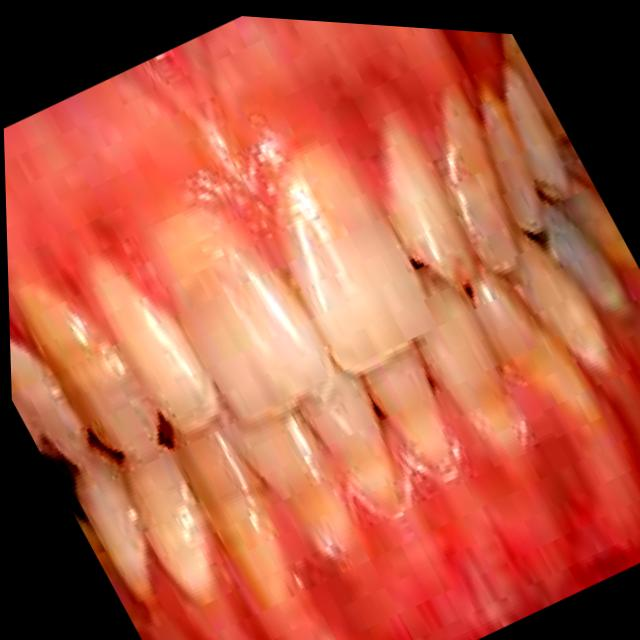tooth-discoloration: (164, 208, 330, 416), (278, 145, 430, 370), (176, 421, 292, 602), (229, 412, 348, 552), (383, 116, 474, 285), (537, 200, 627, 311)
